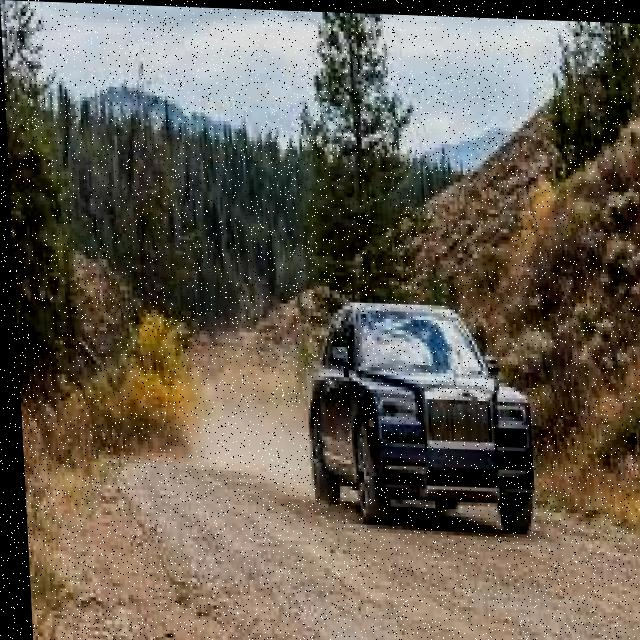car: (289, 283, 549, 535)
